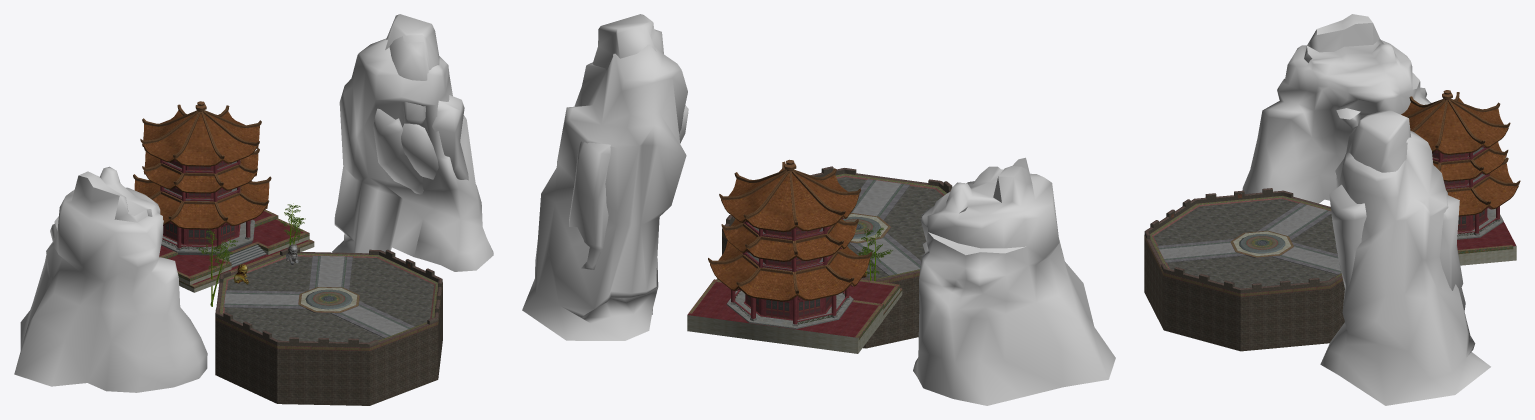
The model's file is ObjectsRip8.obj.
3 views of the same model, side by side, from view 1: azimuth 30°, elevation 25°; view 2: azimuth 150°, elevation 25°; view 3: azimuth 270°, elevation 25° (orthographic). The views are drawn at different scales.
Bounding box in the file's own units: 124 × 61.11 × 82.
